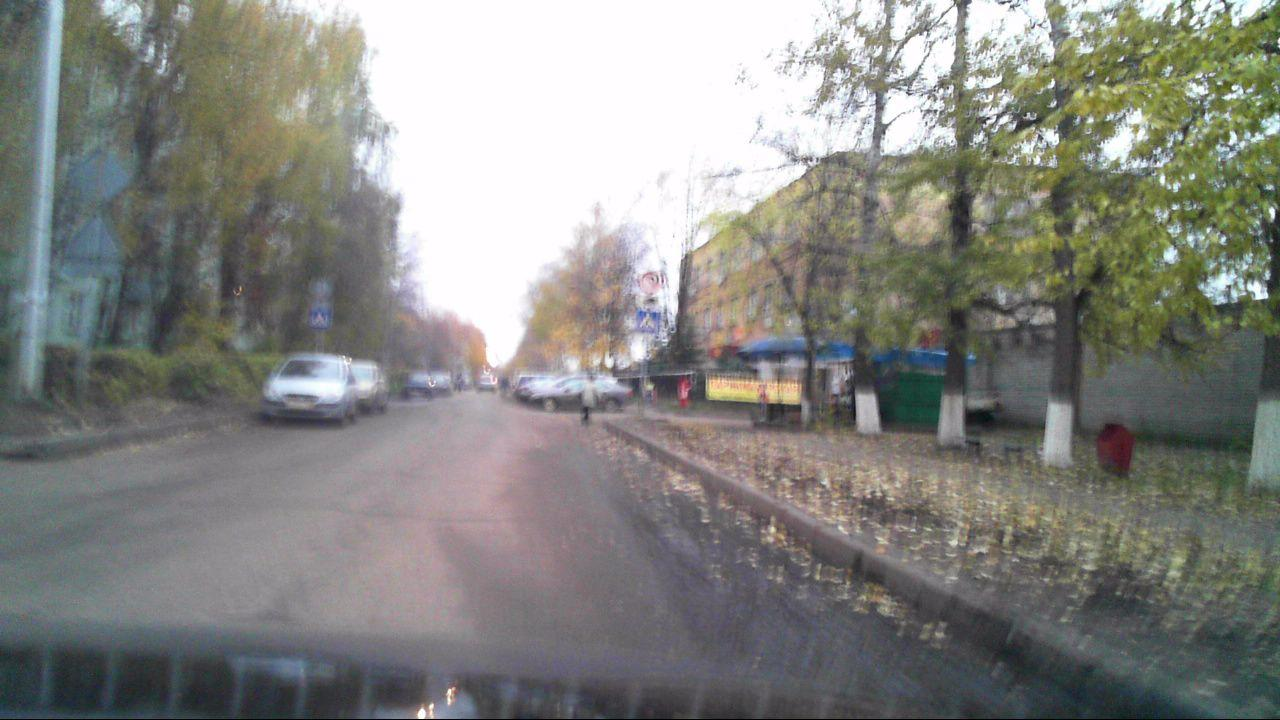3_18_2: (639, 270, 659, 290)
5_19_1: (637, 311, 658, 334)
5_19_2: (310, 306, 330, 328)
8_4_1: (637, 294, 661, 310)
